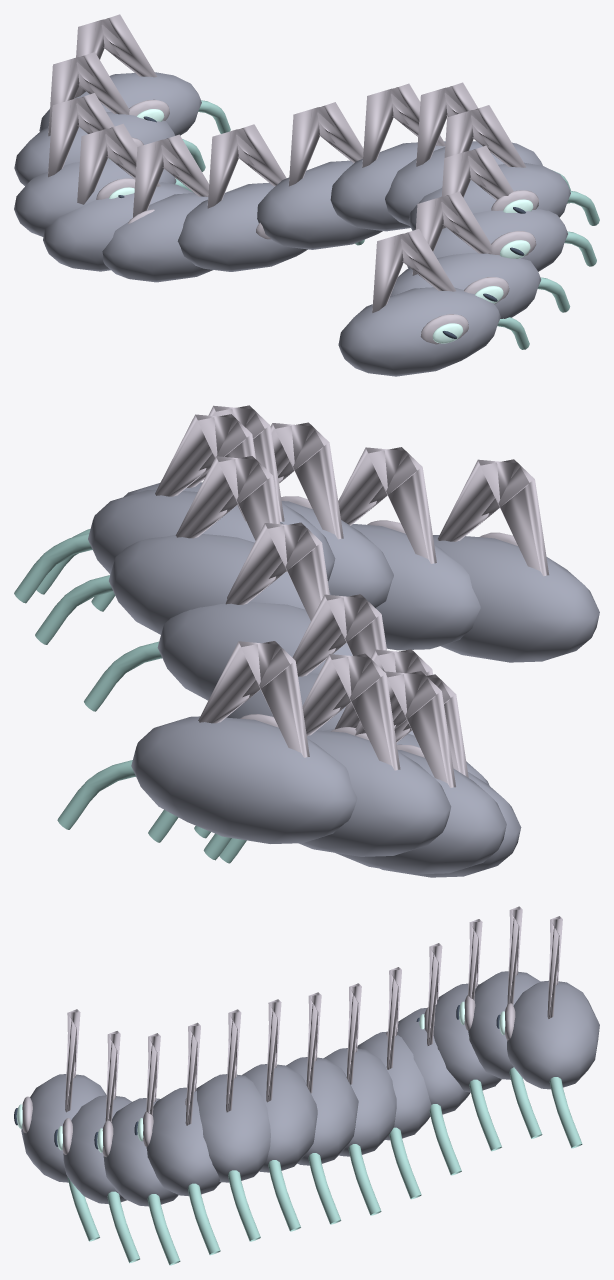
The model's file is bio_ribbon_colony_05_far.glb.
3 renders of one model, top to bottom at view 1: azimuth 30°, elevation 25°; view 2: azimuth 150°, elevation 25°; view 3: azimuth 270°, elevation 25°, orthographic. The views are drawn at different scales.
Visible parts, largest first — view 1: Overlapping folded ribbon, Overlapping folded ribbon.007, Overlapping folded ribbon.006, Overlapping folded ribbon.008, Overlapping folded ribbon.009, Overlapping folded ribbon.005, Overlapping folded ribbon.001, Raised pleated edge, Overlapping folded ribbon.010, Overlapping folded ribbon.002, Raised pleated edge.007, Raised pleated edge.003 (+19 smaller); view 2: Overlapping folded ribbon.012, Overlapping folded ribbon, Overlapping folded ribbon.011, Overlapping folded ribbon.005, Overlapping folded ribbon.001, Overlapping folded ribbon.006, Overlapping folded ribbon.010, Raised pleated edge.012, Raised pleated edge, Raised pleated edge.001, Raised pleated edge.011, Overlapping folded ribbon.004 (+17 smaller); view 3: Overlapping folded ribbon.012, Overlapping folded ribbon.004, Overlapping folded ribbon.003, Overlapping folded ribbon.005, Overlapping folded ribbon, Overlapping folded ribbon.006, Overlapping folded ribbon.007, Overlapping folded ribbon.002, Overlapping folded ribbon.011, Overlapping folded ribbon.001, Overlapping folded ribbon.008, Overlapping folded ribbon.010 (+27 smaller).
Part boxes in pixels (box(x1,y1,x2,y2)): Overlapping folded ribbon: box(338, 287, 500, 376); Overlapping folded ribbon.007: box(177, 183, 307, 271); Overlapping folded ribbon.006: box(257, 160, 382, 249); Overlapping folded ribbon.008: box(102, 193, 212, 282); Overlapping folded ribbon.009: box(43, 182, 193, 271); Overlapping folded ribbon.005: box(330, 141, 445, 231); Overlapping folded ribbon.001: box(390, 253, 541, 318); Raised pleated edge: box(372, 229, 468, 344); Overlapping folded ribbon.010: box(14, 158, 176, 236); Overlapping folded ribbon.002: box(407, 209, 567, 271); Raised pleated edge.007: box(207, 124, 286, 239); Raised pleated edge.003: box(444, 105, 538, 210); Overlapping folded ribbon.012: box(131, 716, 357, 843); Overlapping folded ribbon: box(433, 535, 599, 662); Overlapping folded ribbon.011: box(299, 730, 451, 856); Overlapping folded ribbon.005: box(109, 534, 331, 634); Overlapping folded ribbon.001: box(351, 524, 480, 650); Overlapping folded ribbon.006: box(157, 602, 352, 700); Overlapping folded ribbon.010: box(336, 750, 506, 874); Raised pleated edge.012: box(198, 641, 309, 757); Raised pleated edge: box(438, 459, 549, 576); Raised pleated edge.001: box(338, 447, 436, 563); Raised pleated edge.011: box(302, 653, 400, 770); Overlapping folded ribbon.004: box(88, 489, 283, 574); Overlapping folded ribbon.012: box(507, 980, 599, 1089); Overlapping folded ribbon.004: box(196, 1074, 270, 1182); Overlapping folded ribbon.003: box(146, 1087, 221, 1196); Overlapping folded ribbon.005: box(242, 1064, 317, 1172); Overlapping folded ribbon: box(21, 1074, 106, 1182); Overlapping folded ribbon.006: box(286, 1057, 358, 1165); Overlapping folded ribbon.007: box(324, 1048, 396, 1156); Overlapping folded ribbon.002: box(103, 1098, 178, 1206); Overlapping folded ribbon.011: box(468, 971, 540, 1079); Overlapping folded ribbon.001: box(63, 1095, 131, 1204); Overlapping folded ribbon.008: box(357, 1031, 431, 1140); Overlapping folded ribbon.010: box(433, 983, 501, 1092).
Size of the model in its own units: 2.81 by 1.27 by 3.04.
